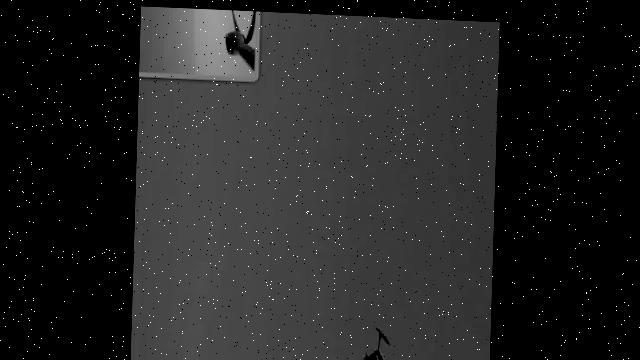drone: (361, 321, 412, 360)
